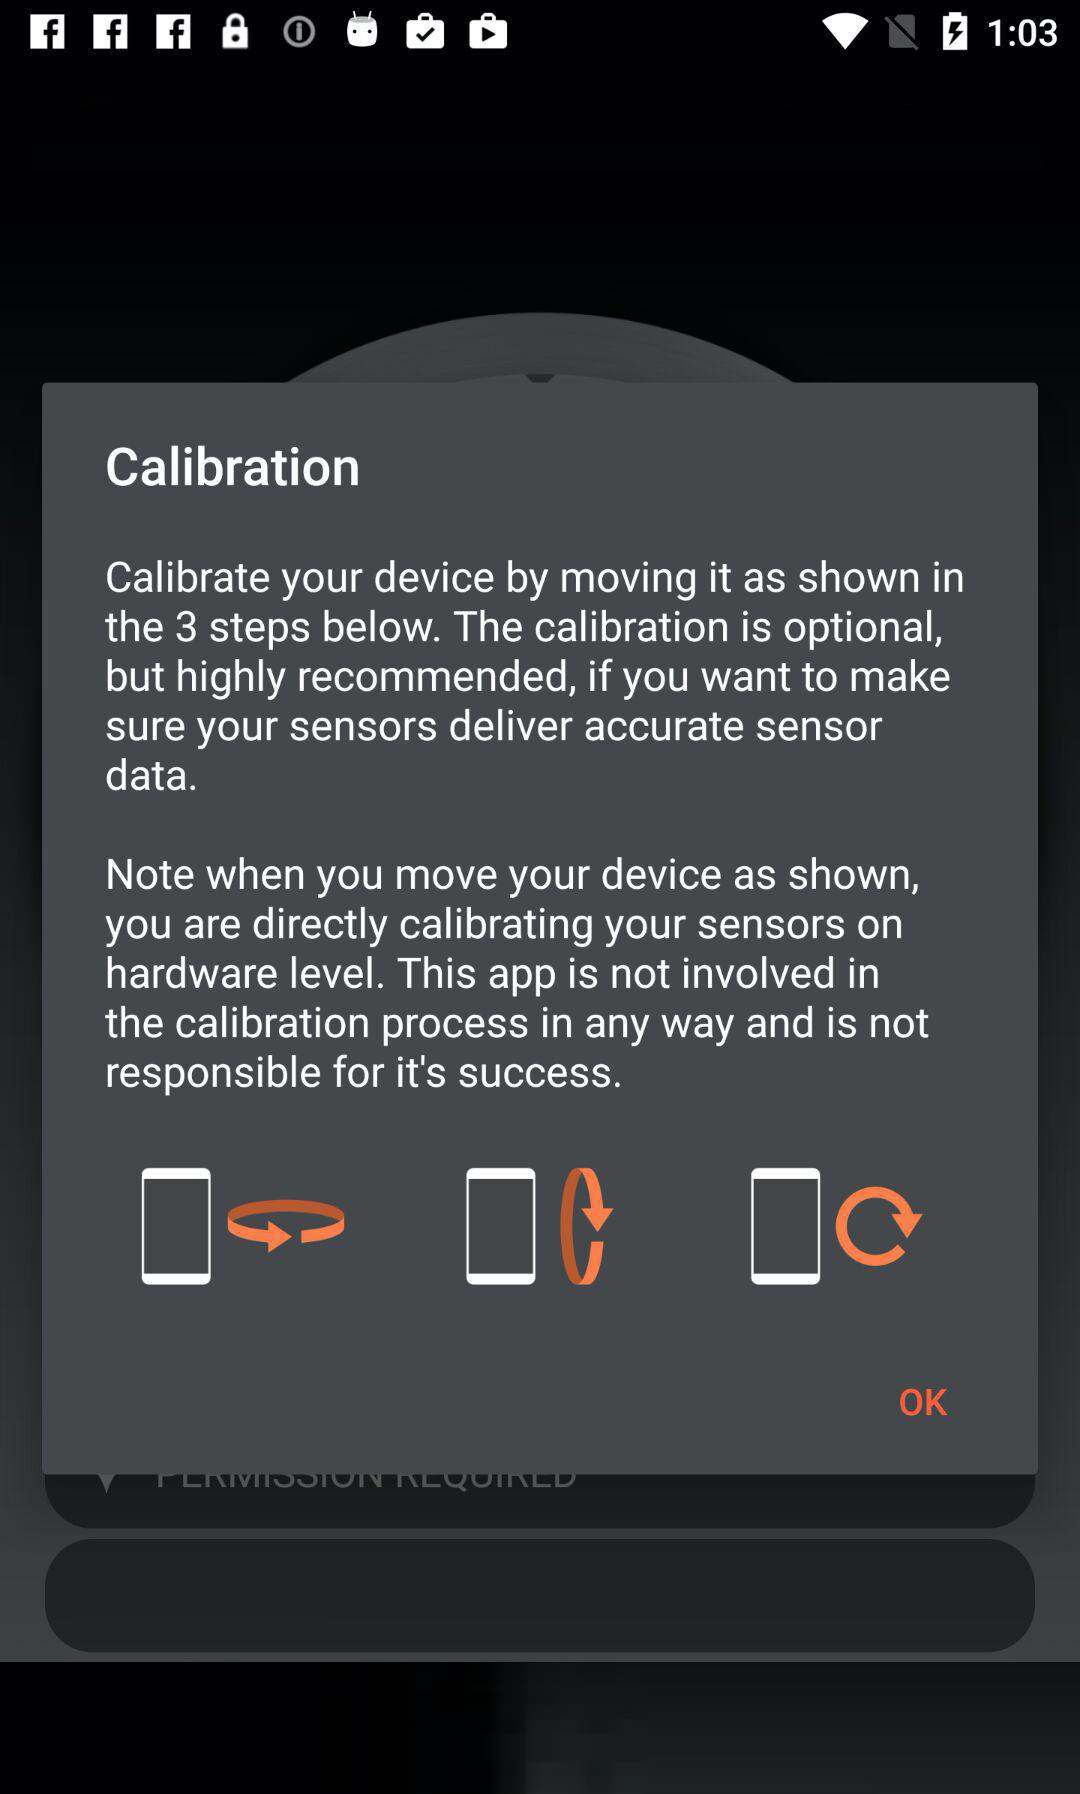Image: (141, 1167, 347, 1285), (749, 1166, 924, 1285), (465, 1167, 615, 1288)
Modal: (41, 383, 1040, 1477)
Text: (105, 560, 963, 792), (105, 859, 931, 1088), (108, 445, 359, 488), (899, 1387, 949, 1416)
UpperTaskBar: (1, 1, 1080, 64)
